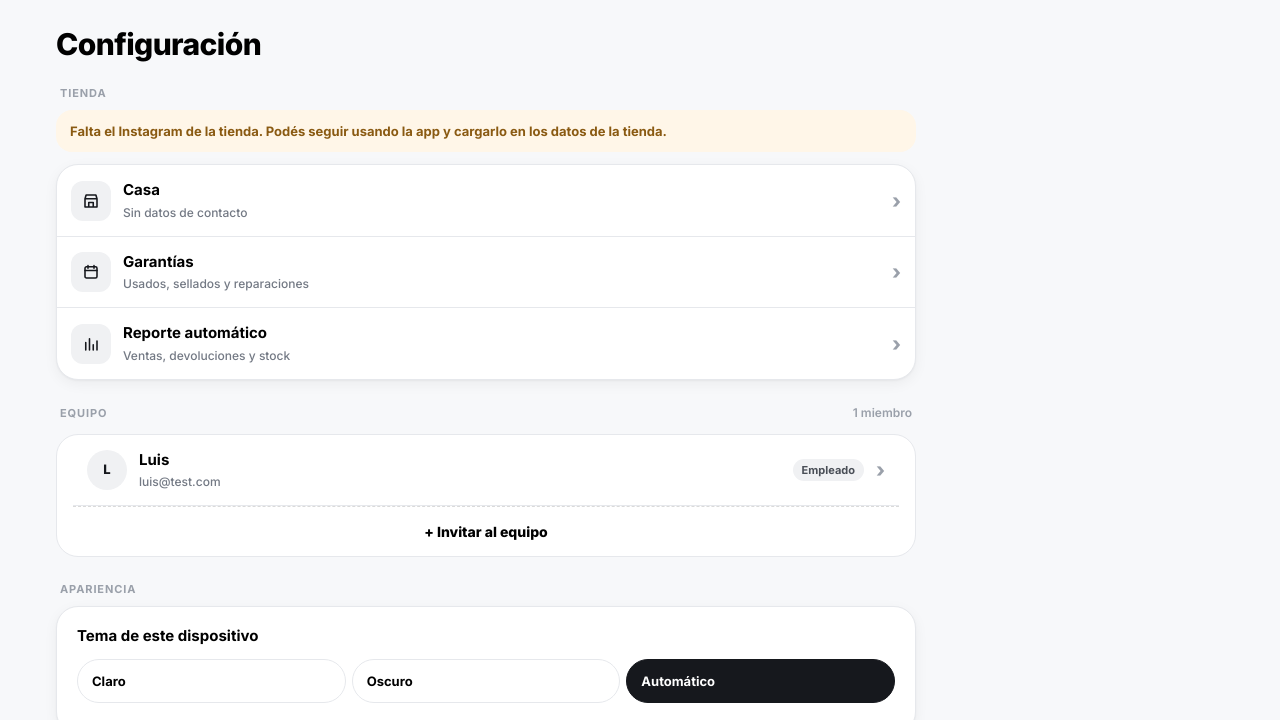
Member permissions › opens a member, keeps the previous access on cancel and stays open when save fails
The image size is (1280, 720).
Click the button "L Luis luis@test.com Empleado ›" at (107, 470), box [73,435,899,506]
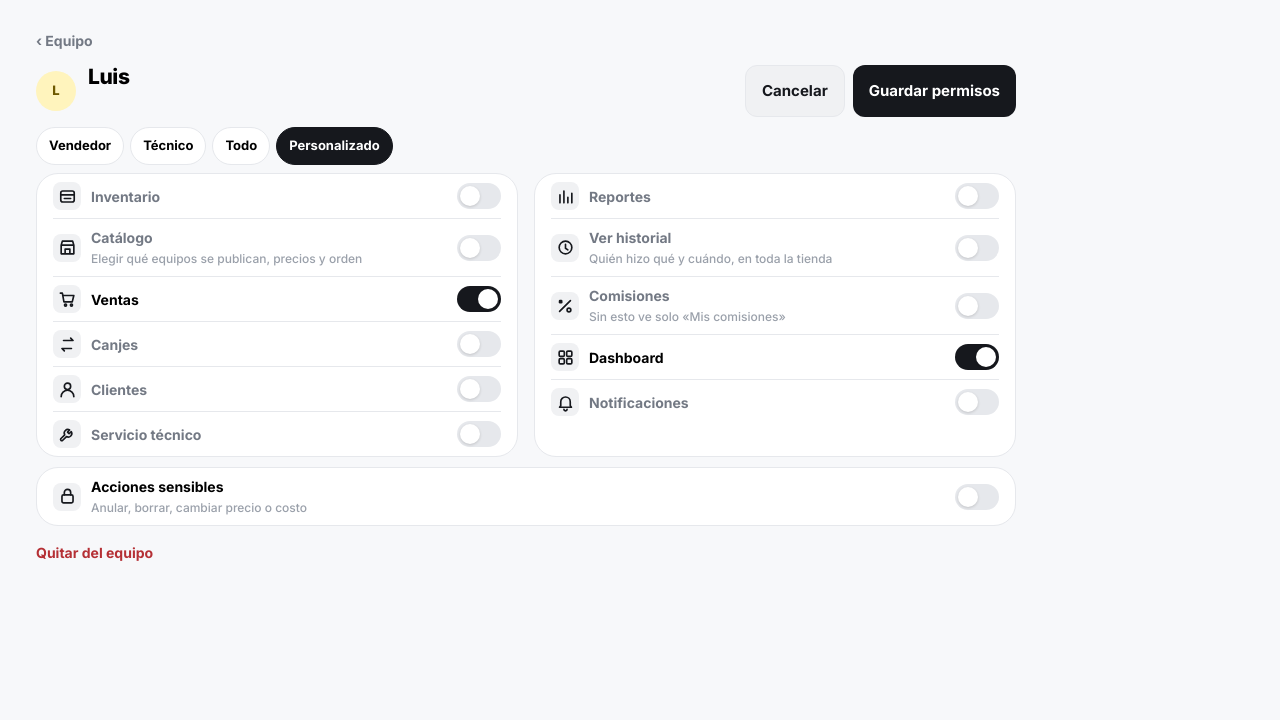
Check: the heading "Luis" is shown, box [88,64,130,89]
Check: the button "luis@test.com" is gone
Check: the switch named "Dashboard" is checked, box [955,344,999,370]
Click the switch named "Inventario" at (479, 196), box [457,183,501,209]
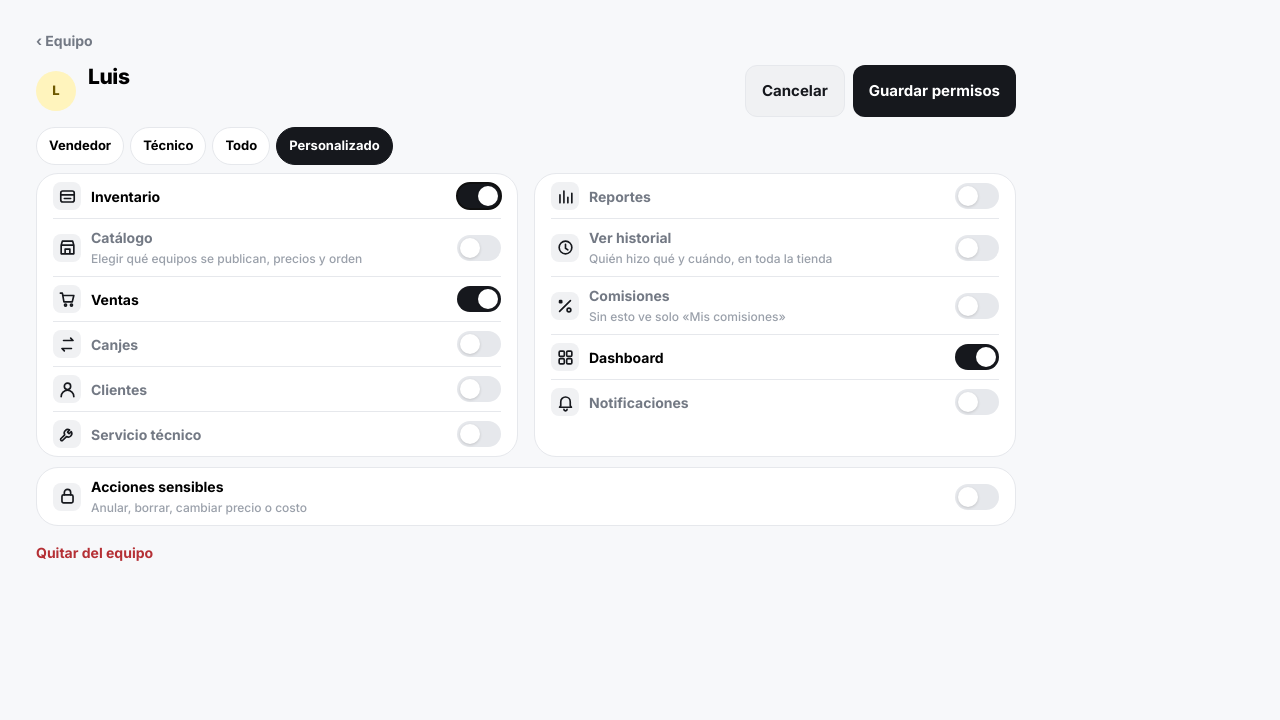
Click the button "Cancelar" at (795, 91), box [745,65,845,117]
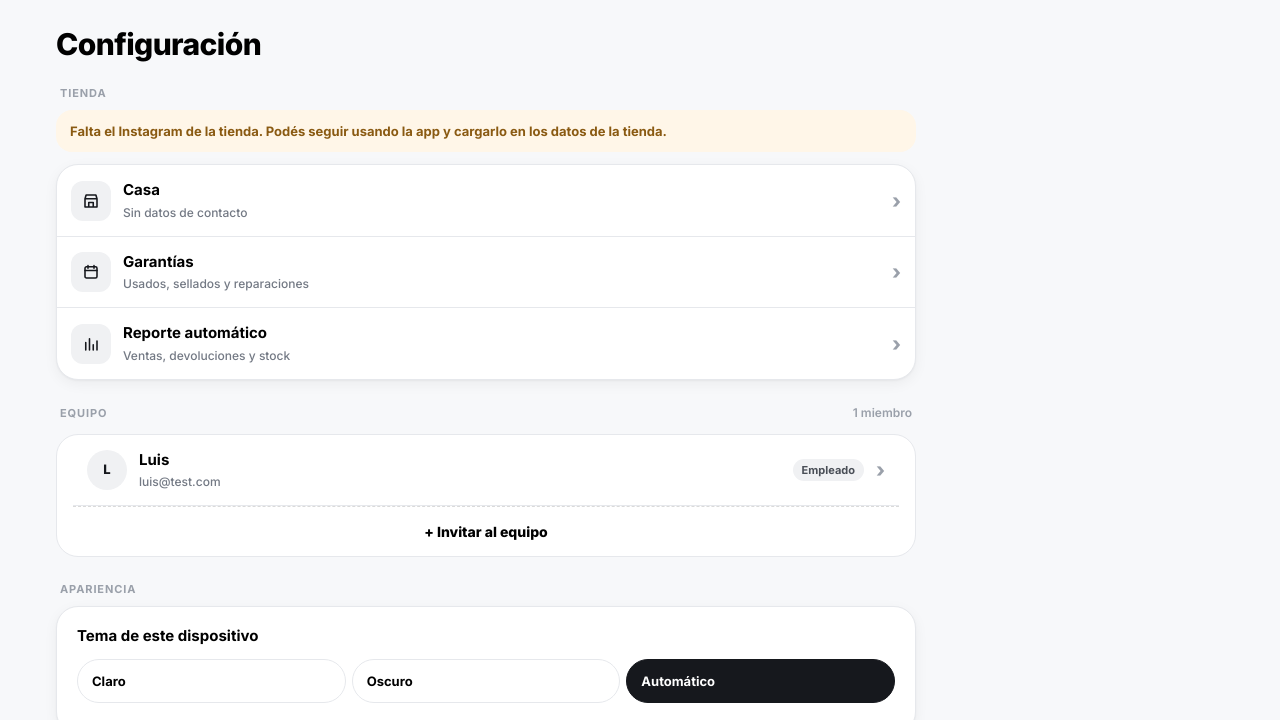
Check: the button "L Luis luis@test.com Empleado ›" is shown
Click the button "L Luis luis@test.com Empleado ›" at (107, 470), box [73,435,899,506]
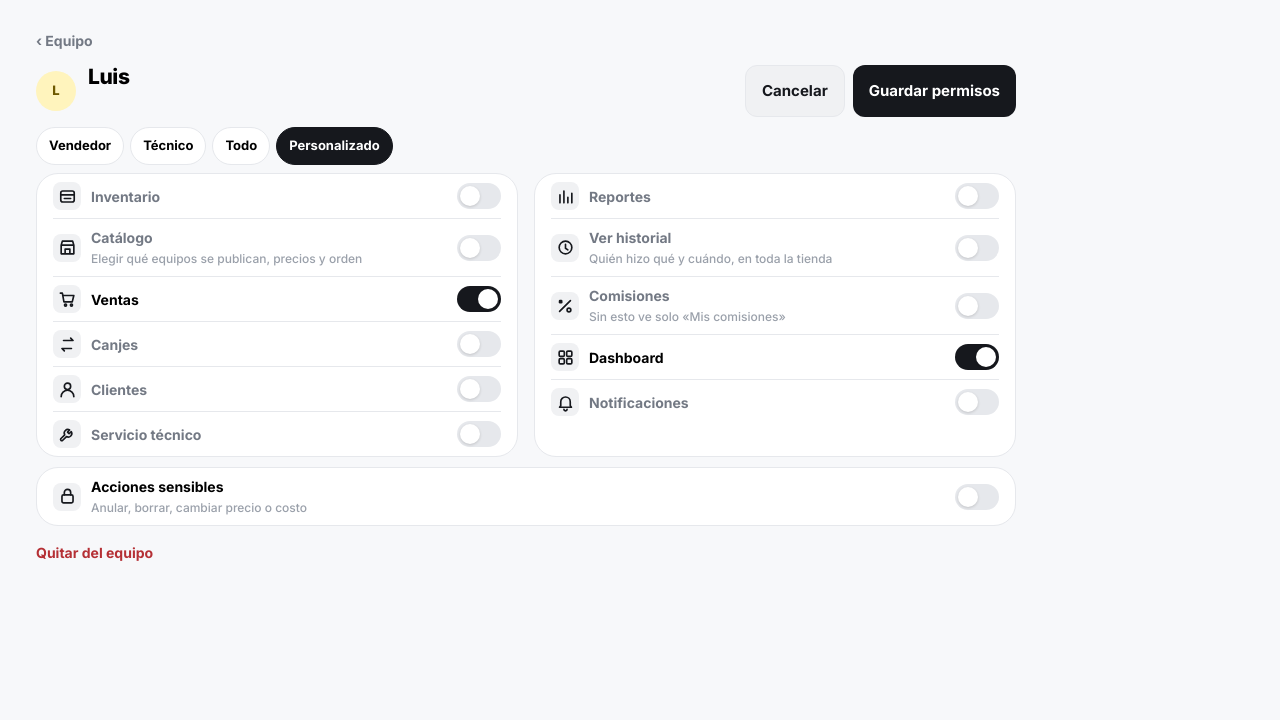
Click the button "Guardar permisos" at (934, 91), box [853,65,1016,117]
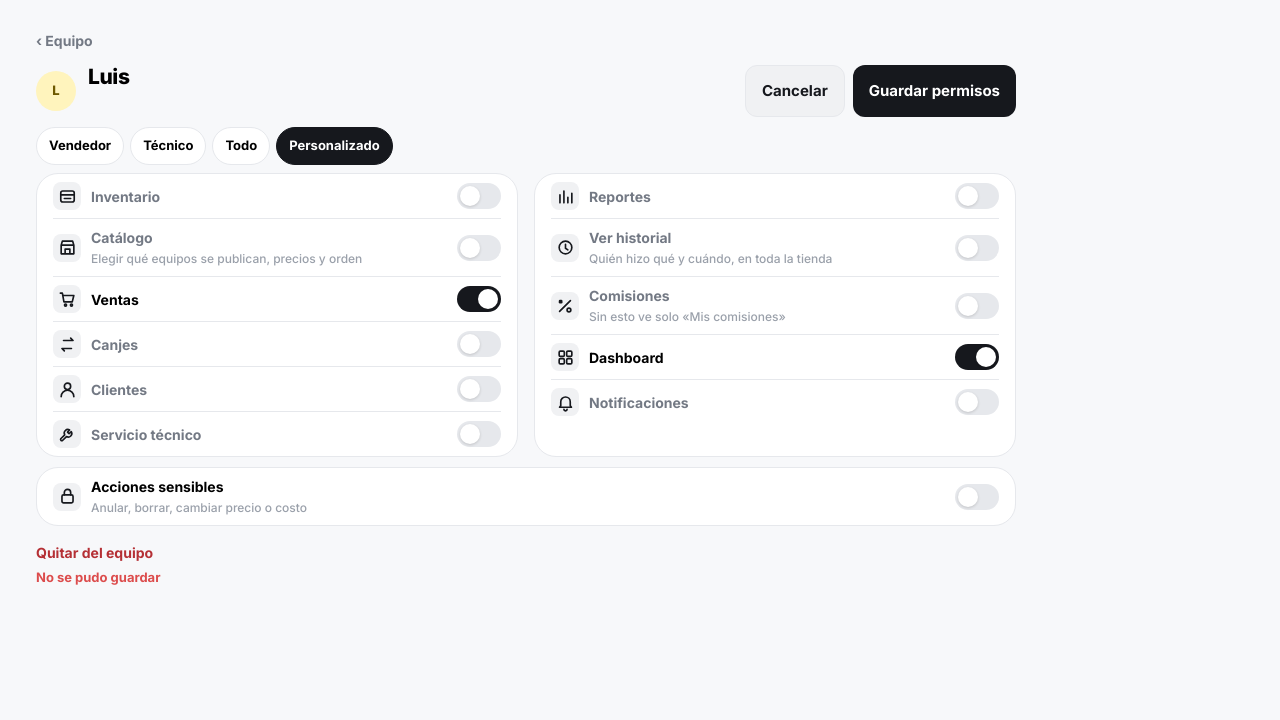
Check: the heading "Luis" is shown, box [88,64,130,89]
Check: the text "No se pudo guardar" is shown, box [36,569,160,585]
